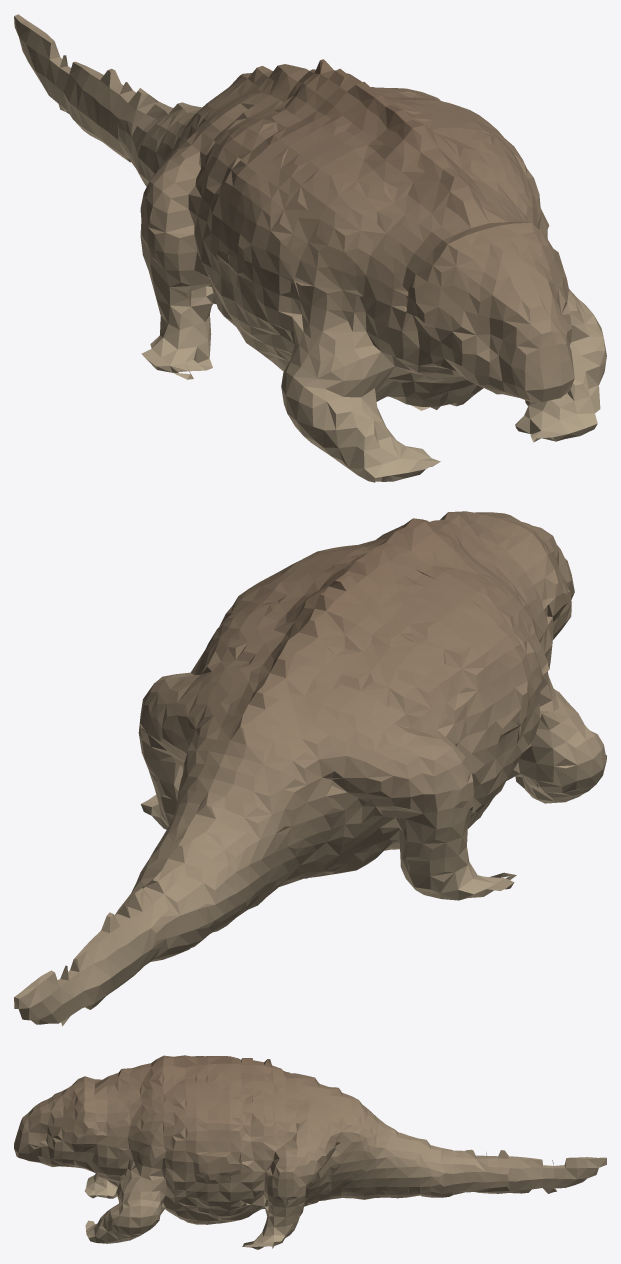
The model's file is placodus.glb.
3 views of the same model, one above another, from view 1: azimuth 30°, elevation 25°; view 2: azimuth 150°, elevation 25°; view 3: azimuth 270°, elevation 25° (orthographic). The views are drawn at different scales.
Visible parts, largest first — view 1: placodus_vc60.stl; view 2: placodus_vc60.stl; view 3: placodus_vc60.stl.
Part boxes in pixels (bbox=[...]): placodus_vc60.stl: bbox=[14, 14, 606, 482]; placodus_vc60.stl: bbox=[14, 511, 606, 1026]; placodus_vc60.stl: bbox=[14, 1055, 606, 1249].
Size of the model in its own units: 4.63 by 3.56 by 12.
